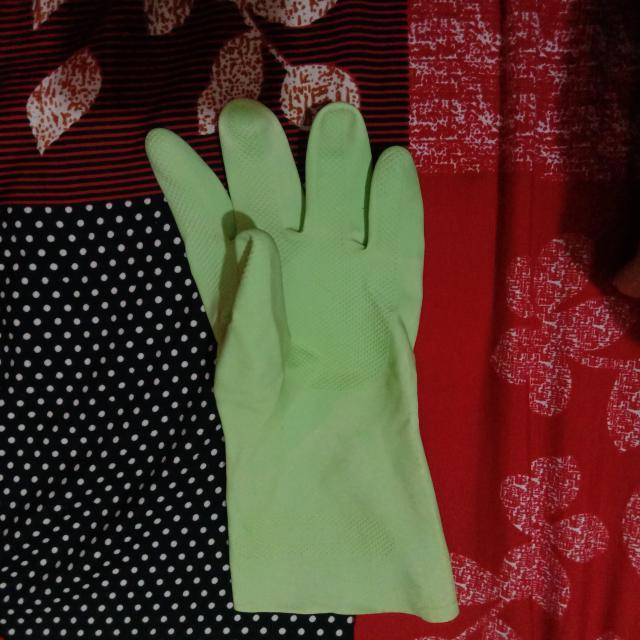gloved_hand: (136, 93, 467, 629)
